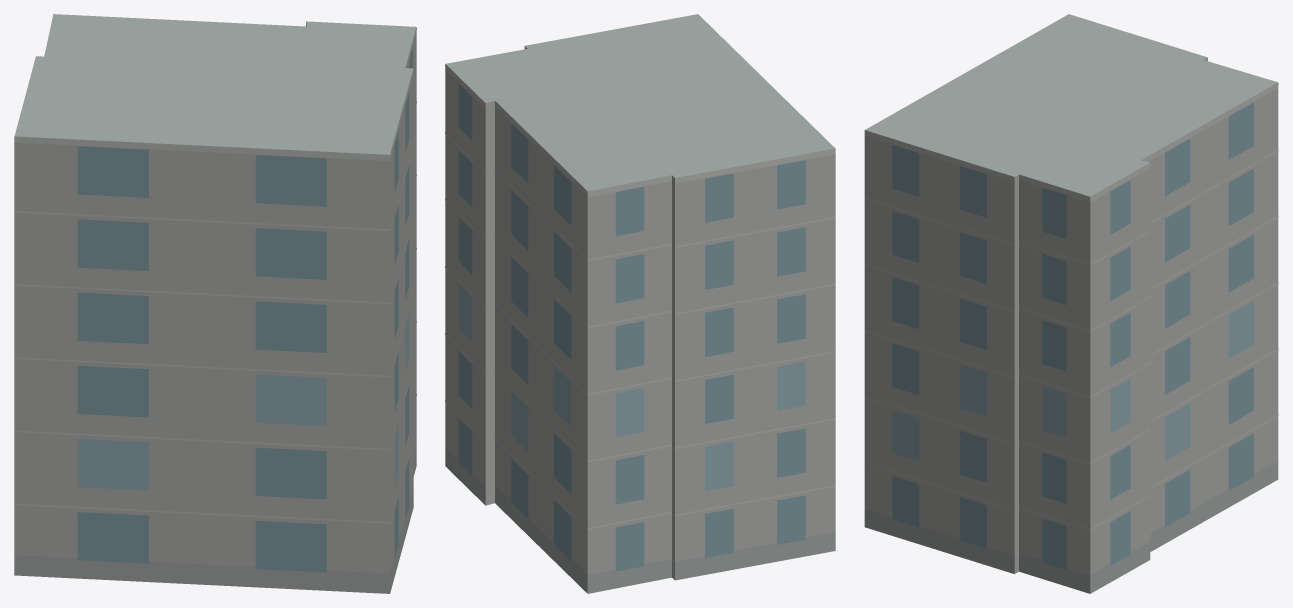
The model's file is survey-upis-32633194.glb.
The picture shows the model from 3 angles, left to right: view 1: azimuth 30°, elevation 25°; view 2: azimuth 150°, elevation 25°; view 3: azimuth 270°, elevation 25°; orthographic projection. The views are drawn at different scales.
Parts seen in each view (by area): view 1: survey-upis-32633194.tmp; view 2: survey-upis-32633194.tmp; view 3: survey-upis-32633194.tmp.
Boxes of the visible parts, x1,y1,x2,y2 form: survey-upis-32633194.tmp: [14, 14, 416, 593]; survey-upis-32633194.tmp: [445, 14, 835, 593]; survey-upis-32633194.tmp: [864, 14, 1278, 593].
Bounding box in the file's own units: 16.79 × 17 × 16.06.
